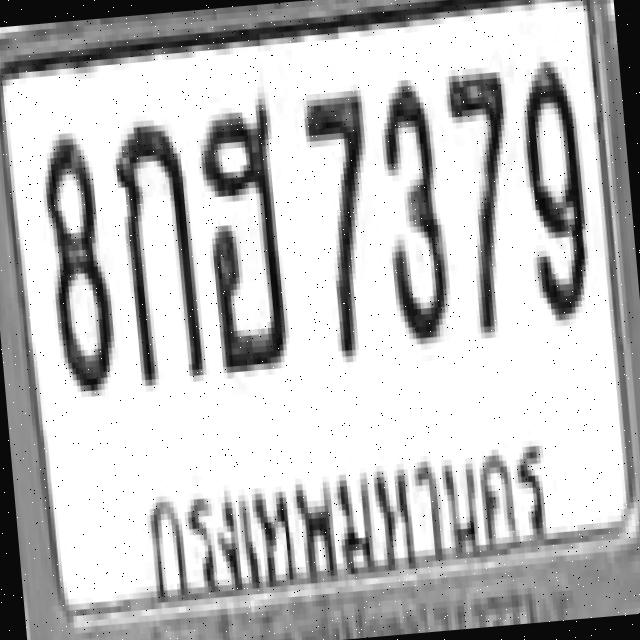10GorGai: (108, 118, 204, 386)
3: (371, 75, 452, 342)
53HorNokHook: (192, 95, 288, 370)
7: (298, 84, 383, 358), (443, 68, 524, 336)
8: (37, 127, 115, 396)
9: (515, 54, 593, 322)
Bangkok: (129, 420, 562, 607)
